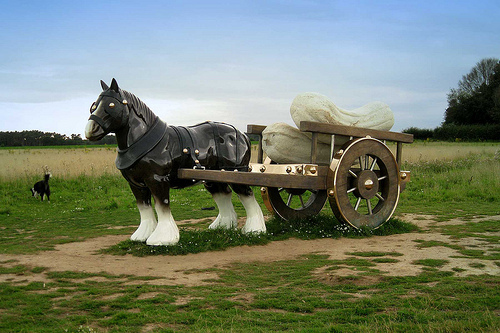background: (84, 78, 265, 247)
